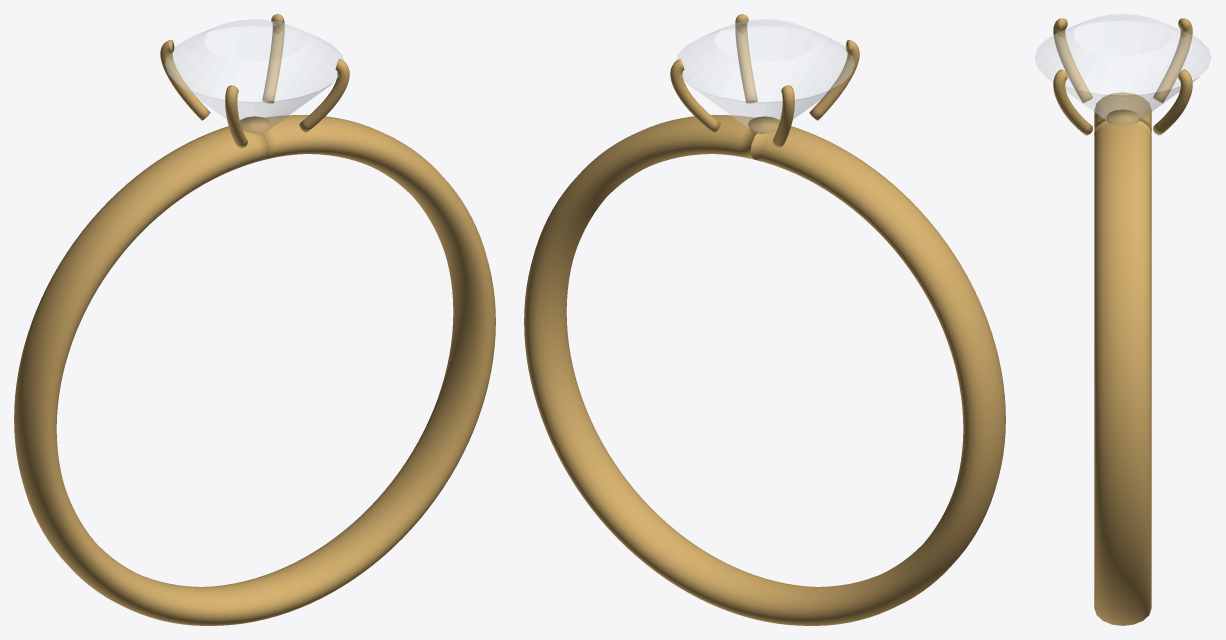
The model's file is settings-peg-head.glb.
The picture shows the model from 3 angles, left to right: view 1: azimuth 30°, elevation 25°; view 2: azimuth 150°, elevation 25°; view 3: azimuth 270°, elevation 25°; orthographic projection.
Visible parts, largest first — view 1: Band, Gem, Prong, Prong.001, Prong.003, Prong.002; view 2: Band, Gem, Prong.003, Prong.002, Prong, Prong.001; view 3: Band, Gem, Prong.001, Prong.002, Prong, Prong.003, Head stem.
Part boxes in pixels (<box>): Band: <box>14,115,495,625</box>; Gem: <box>165,19,343,132</box>; Prong: <box>262,14,284,103</box>; Prong.001: <box>160,40,210,120</box>; Prong.003: <box>299,59,349,132</box>; Prong.002: <box>225,85,247,148</box>; Band: <box>524,115,1005,625</box>; Gem: <box>676,19,854,132</box>; Prong.003: <box>735,14,757,103</box>; Prong.002: <box>809,40,859,120</box>; Prong: <box>670,59,720,132</box>; Prong.001: <box>772,85,794,148</box>; Band: <box>1094,92,1151,625</box>; Gem: <box>1035,14,1210,124</box>; Prong.001: <box>1153,18,1192,103</box>; Prong.002: <box>1053,18,1092,103</box>; Prong: <box>1153,69,1192,135</box>; Prong.003: <box>1053,69,1092,135</box>; Head stem: <box>1106,109,1139,124</box>.
Size of the model in its own units: 19.6 by 22.94 by 6.5.
